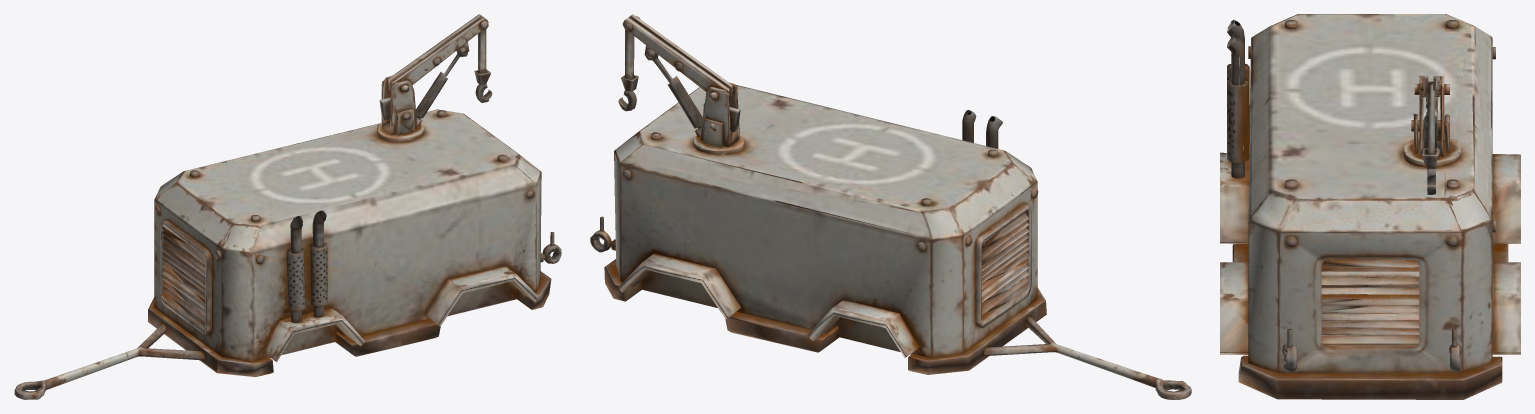
The model's file is big_rig_mid_body.glb.
3 views of the same model, side by side, from view 1: azimuth 30°, elevation 25°; view 2: azimuth 150°, elevation 25°; view 3: azimuth 270°, elevation 25° (orthographic). The views are drawn at different scales.
Visible parts, largest first — view 1: geometry_0; view 2: geometry_0; view 3: geometry_0.
Part boxes in pixels (x1,y1,x2,y2): geometry_0: [14, 14, 561, 399]; geometry_0: [590, 14, 1191, 399]; geometry_0: [1220, 14, 1520, 399].
Size of the model in its own units: 0.9541 by 0.437 by 0.3647.
1 material, 1 textured.
